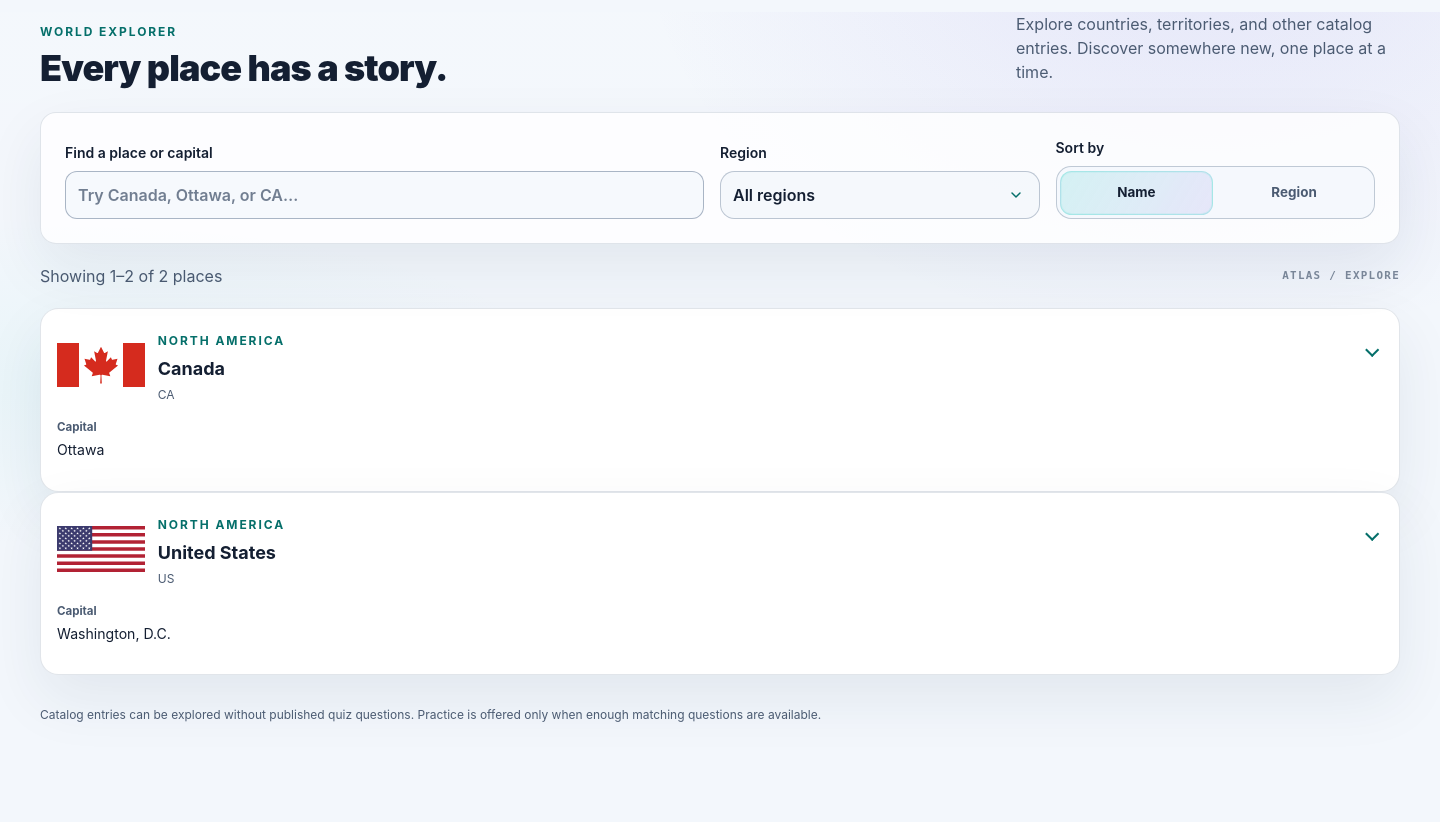
Test: keeps every catalog entry searchable and gives only the first visible flag high priority
This screenshot has width=1440, height=822.
Type "washington" into the search field with placeholder "Try Canada, Ottawa, or CA…" at [384, 195], box [65,171,704,219]
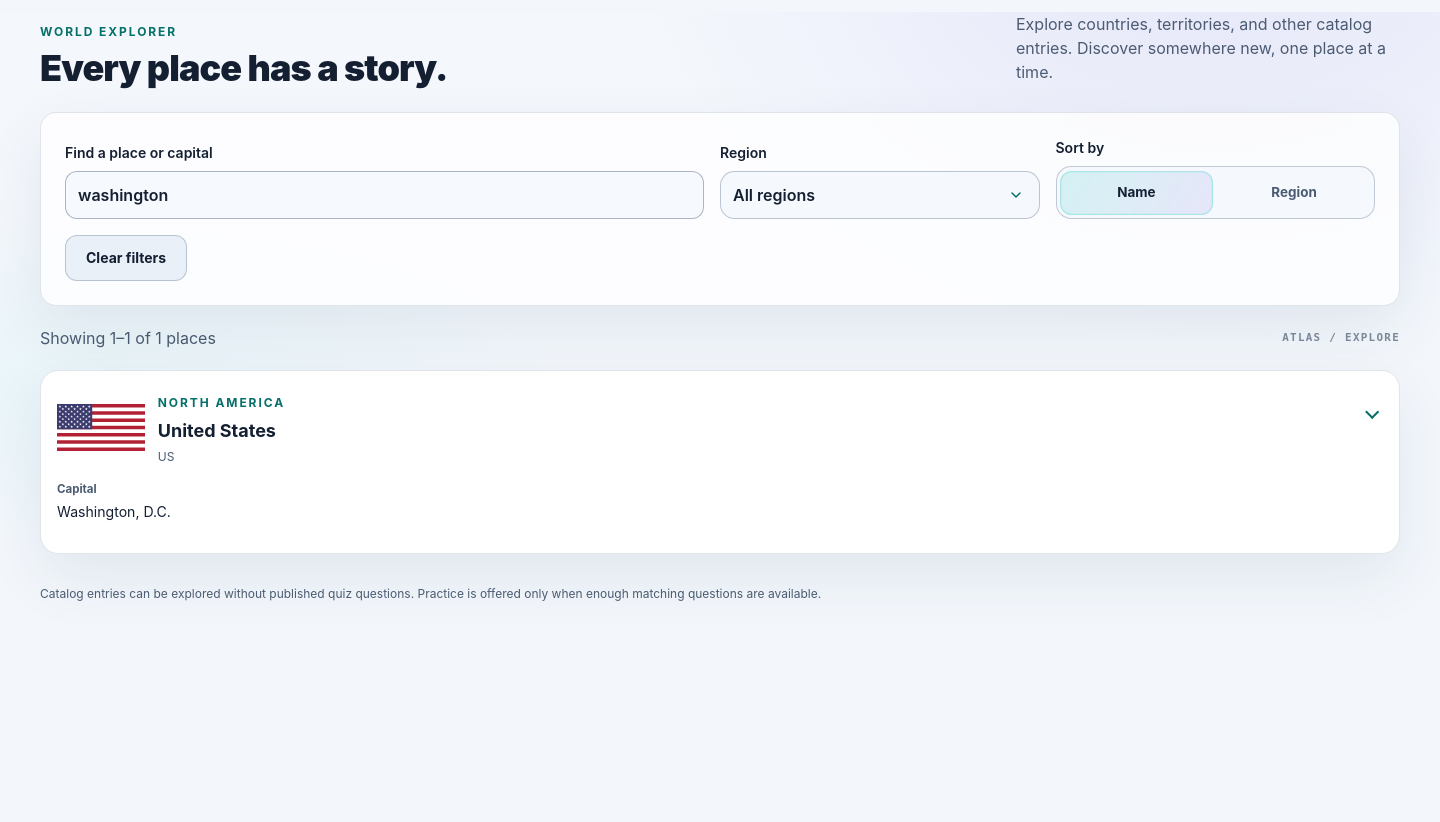
Check: the heading "United States" is shown, box [158,417,285,445]
Check: the text "Showing 1–1 of 1 places" is shown, box [40,326,216,350]
